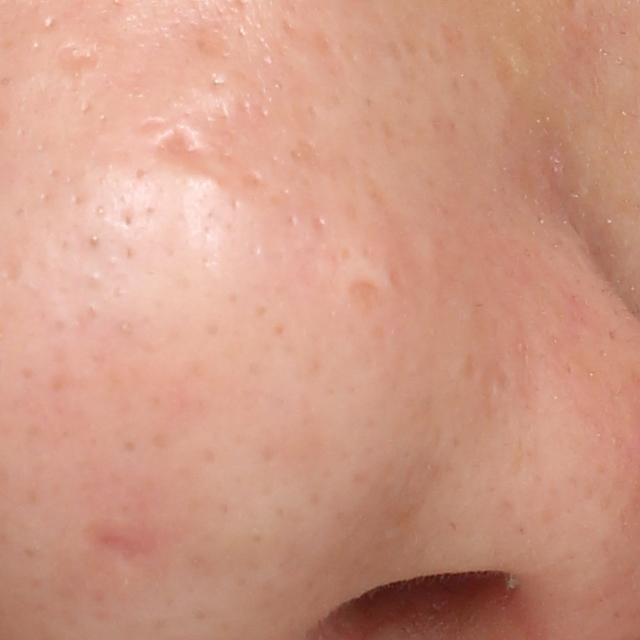atrophic_scar: (78, 515, 161, 570), (171, 11, 238, 62), (145, 124, 209, 174), (55, 40, 104, 77), (349, 281, 386, 314)
